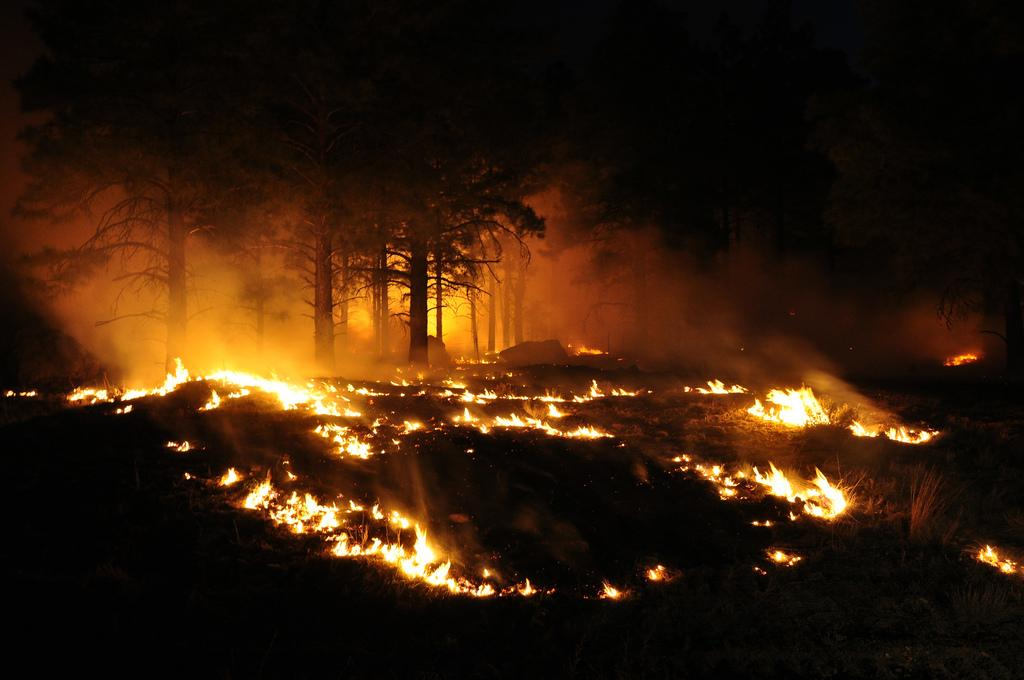fire: (378, 523, 455, 583), (247, 472, 335, 523), (230, 367, 310, 405), (758, 383, 823, 428), (142, 365, 188, 393)
